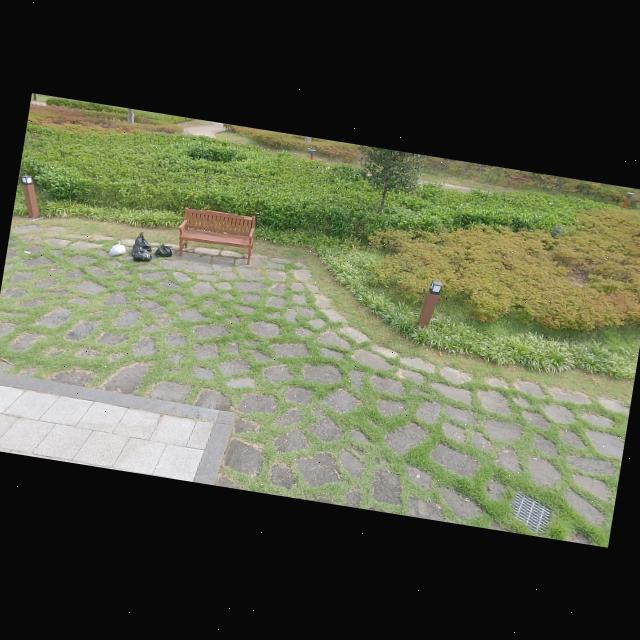trash: (131, 244, 153, 263), (133, 231, 154, 250), (108, 239, 127, 258), (154, 242, 174, 258)
